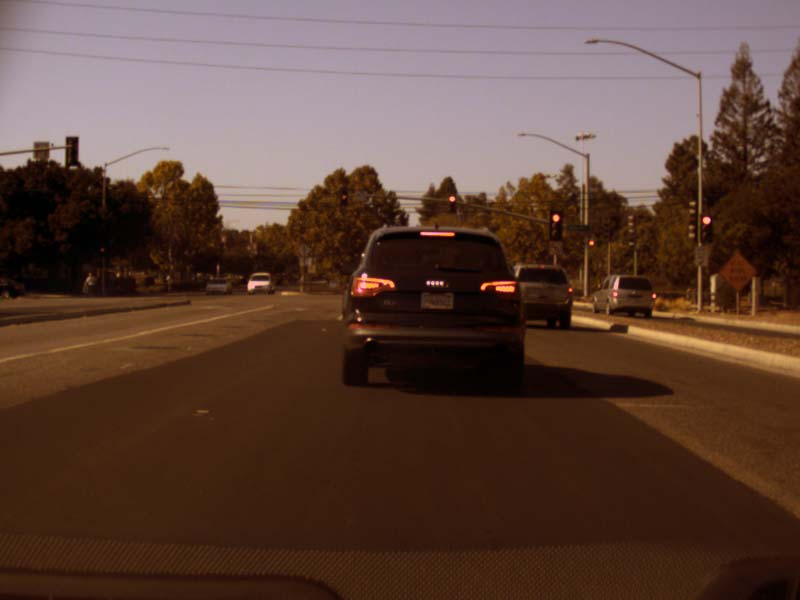Red: (550, 211, 561, 238), (701, 215, 712, 240), (448, 194, 456, 214), (588, 239, 594, 246)
Yellow: (340, 187, 347, 205), (99, 243, 106, 257)
